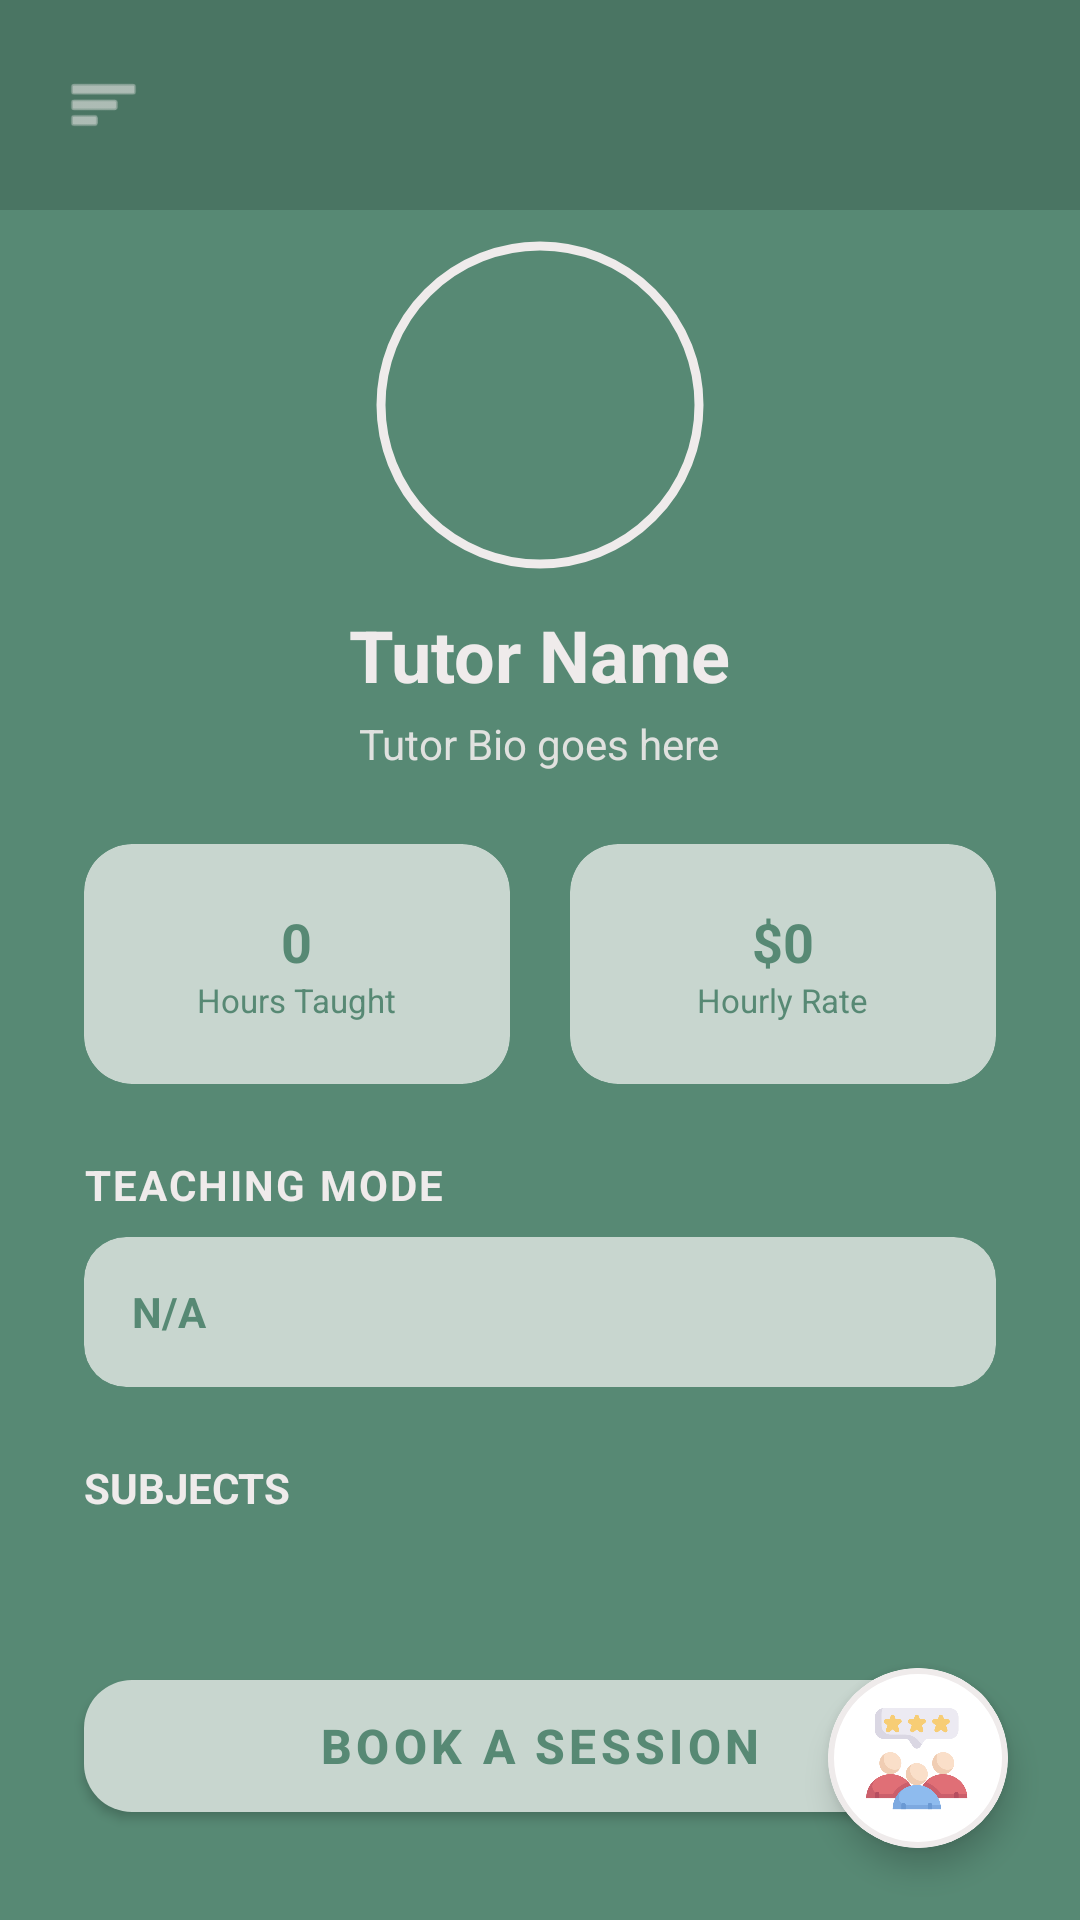

Named icons in this screenshot (1080w x 1920h) and their bounding boxes, (x1, y1, x2, y2):
sort by size: (71, 84, 136, 126)
View Reviews: (828, 1668, 1008, 1848)
